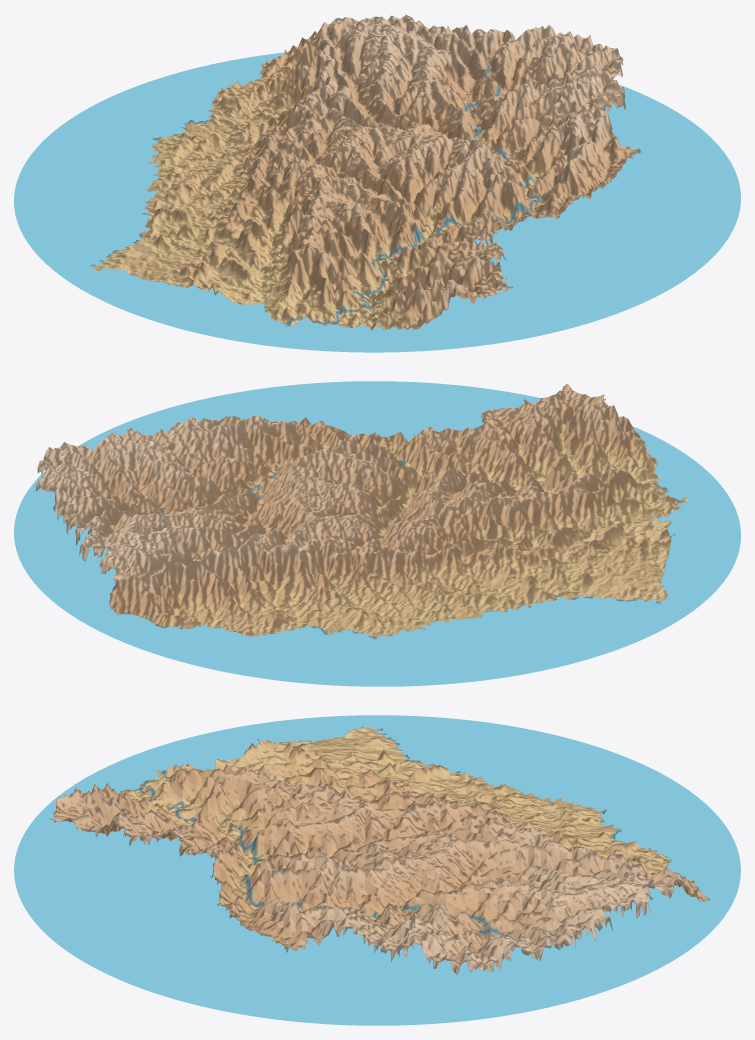
File: LSO-terrain.glb
The picture shows the model from 3 angles, top to bottom: view 1: azimuth 30°, elevation 25°; view 2: azimuth 150°, elevation 25°; view 3: azimuth 270°, elevation 25°; orthographic projection.
Visible parts, largest first — view 1: Relevo com hidrografia; view 2: Relevo com hidrografia; view 3: Relevo com hidrografia.
Part boxes in pixels (x1,y1,x2,y2): Relevo com hidrografia: (14, 14, 740, 352); Relevo com hidrografia: (14, 381, 740, 686); Relevo com hidrografia: (14, 715, 740, 1025).
Size of the model in its own units: 1.77 by 0.1497 by 1.75.
2 materials, 1 textured.
